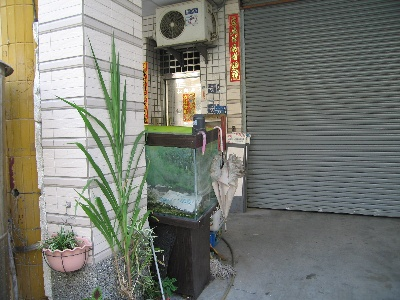aquarium: (146, 129, 218, 226)
